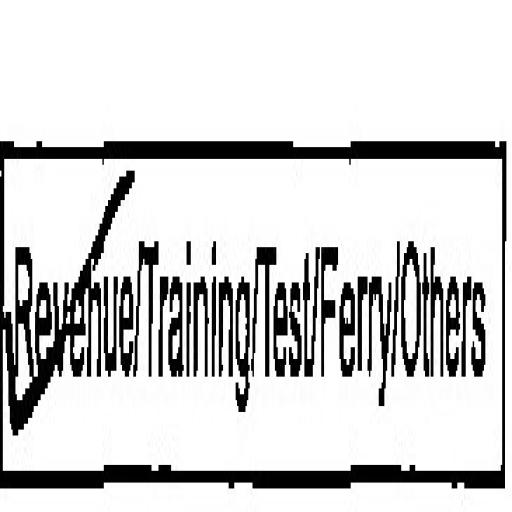check: (0, 24, 136, 506)
